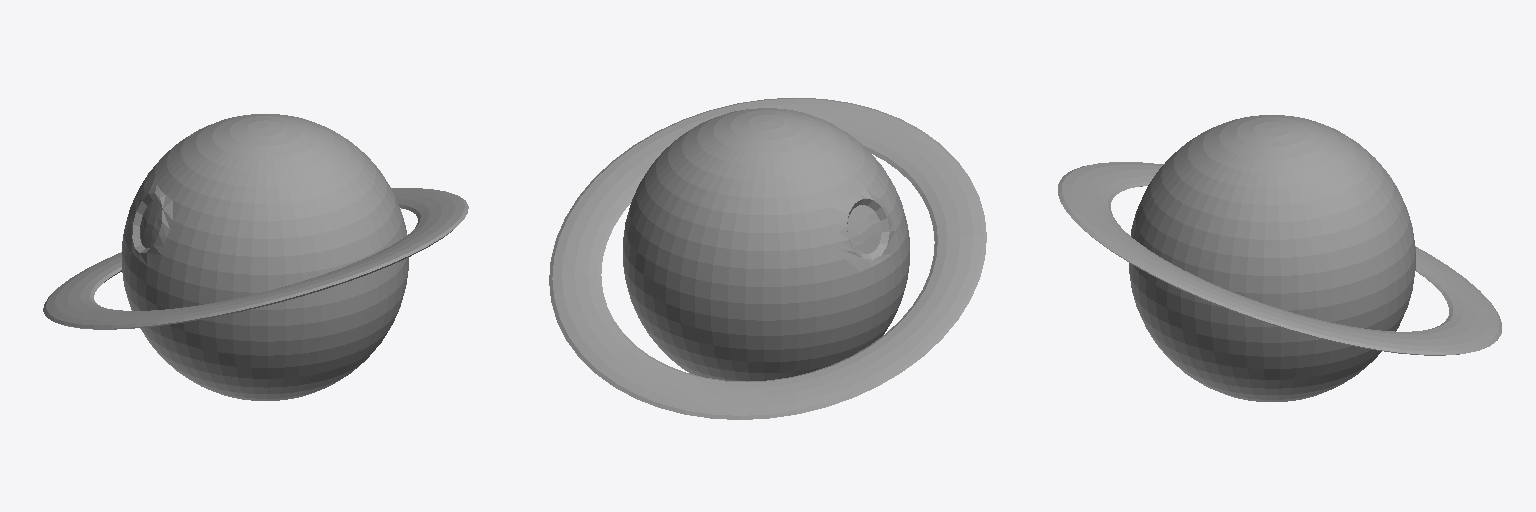
The model's file is planet.obj.
The picture shows the model from 3 angles: view 1: azimuth 30°, elevation 25°; view 2: azimuth 150°, elevation 25°; view 3: azimuth 270°, elevation 25°; orthographic projection.
Parts seen in each view (by area): view 1: Torus.001; view 2: Torus.001; view 3: Torus.001.
Part boxes in pixels (left/top/right/bottom): Torus.001: left=43, top=114, right=468, bottom=400; Torus.001: left=549, top=98, right=986, bottom=419; Torus.001: left=1058, top=115, right=1501, bottom=401.
Size of the model in its own units: 4.33 by 2.92 by 4.51.